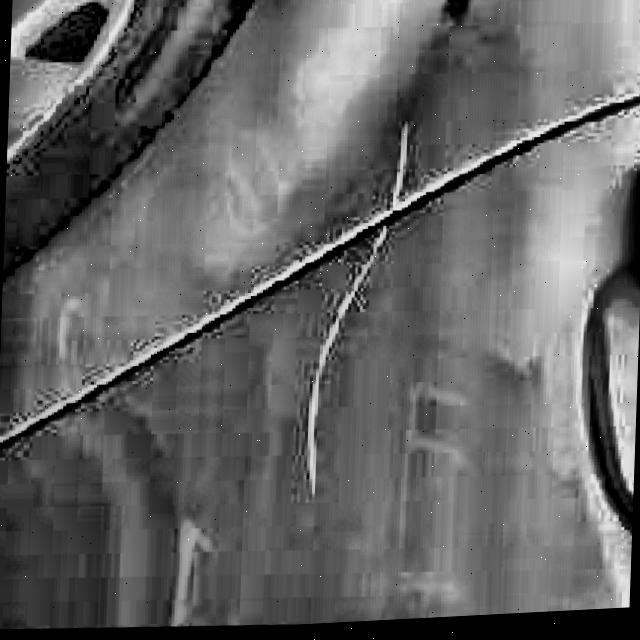door_dent: (288, 308, 358, 488)
